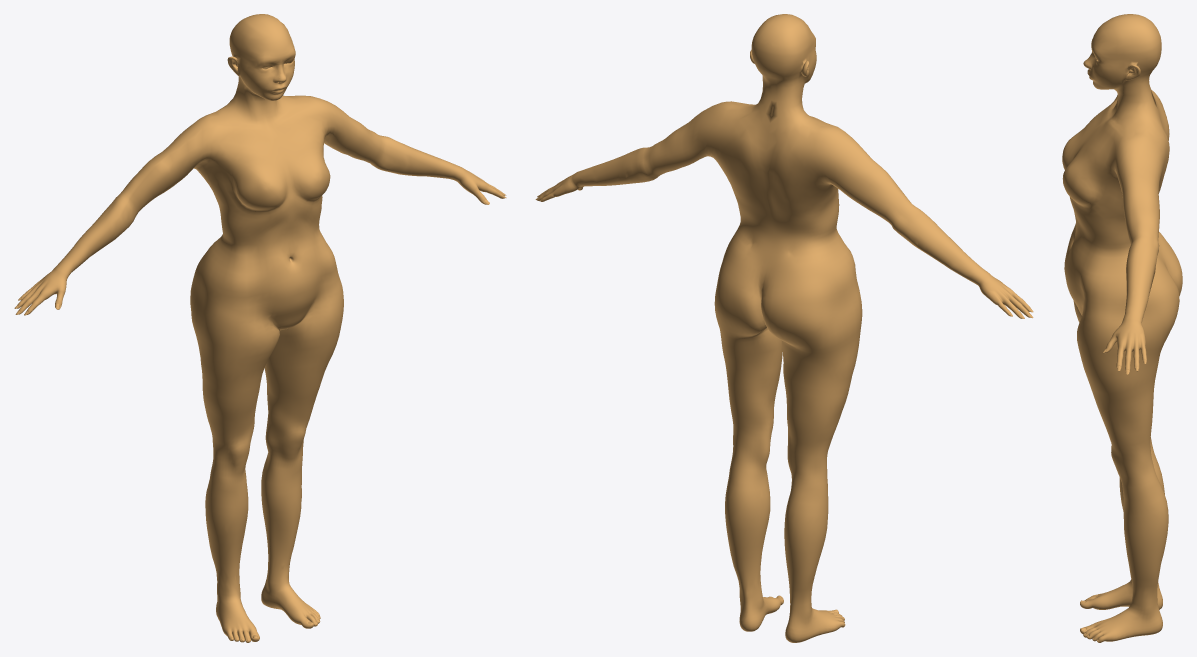
The picture shows the model from 3 angles, left to right: view 1: azimuth 30°, elevation 25°; view 2: azimuth 150°, elevation 25°; view 3: azimuth 270°, elevation 25°; orthographic projection.
Visible parts, largest first — view 1: Body; view 2: Body; view 3: Body.
Boxes of the visible parts, left/top/right/bottom form: Body: left=17, top=14, right=505, bottom=642; Body: left=537, top=14, right=1030, bottom=642; Body: left=1062, top=14, right=1182, bottom=642.
Size of the model in its own units: 1.58 by 1.85 by 0.3332.
